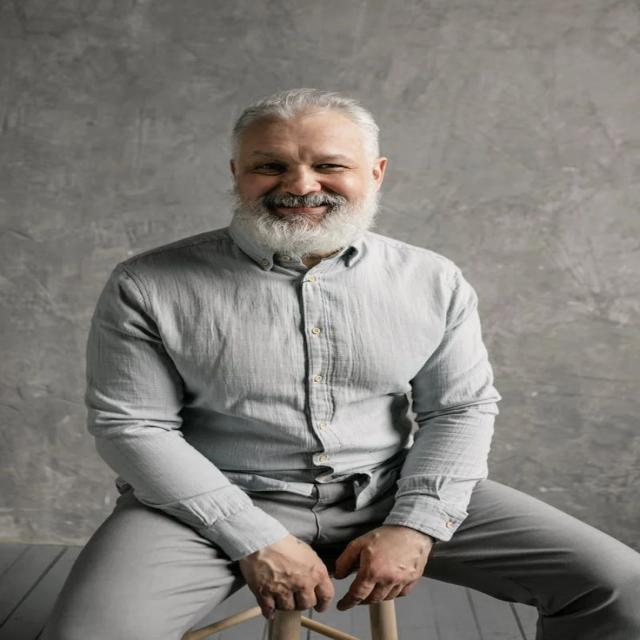idoso sentado: (59, 91, 595, 640)
